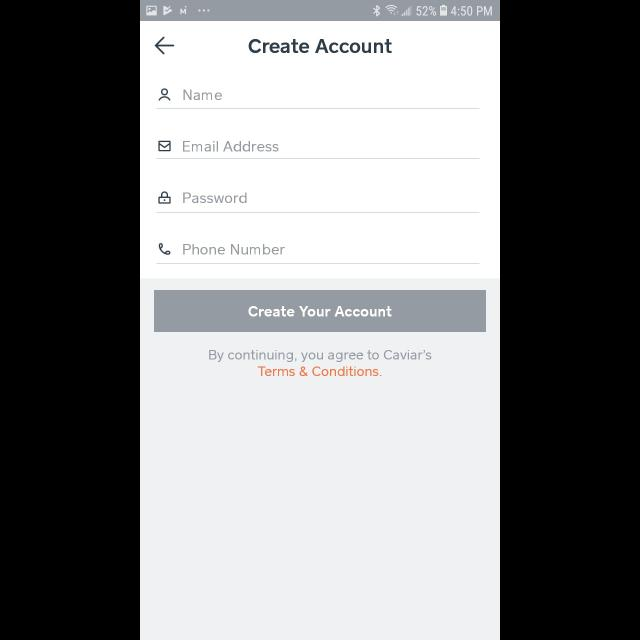icon: (155, 36, 175, 56), (159, 88, 171, 102), (158, 140, 172, 152), (158, 192, 172, 204), (159, 242, 171, 255)
input: (157, 191, 480, 213), (157, 243, 480, 265), (157, 88, 480, 109), (157, 141, 480, 159)
text: (208, 349, 432, 376), (248, 38, 392, 54), (183, 244, 285, 256), (183, 142, 279, 152), (183, 192, 247, 204), (184, 90, 223, 102)
textbutton: (154, 290, 486, 332)
uppertaskbar: (140, 1, 500, 22)
